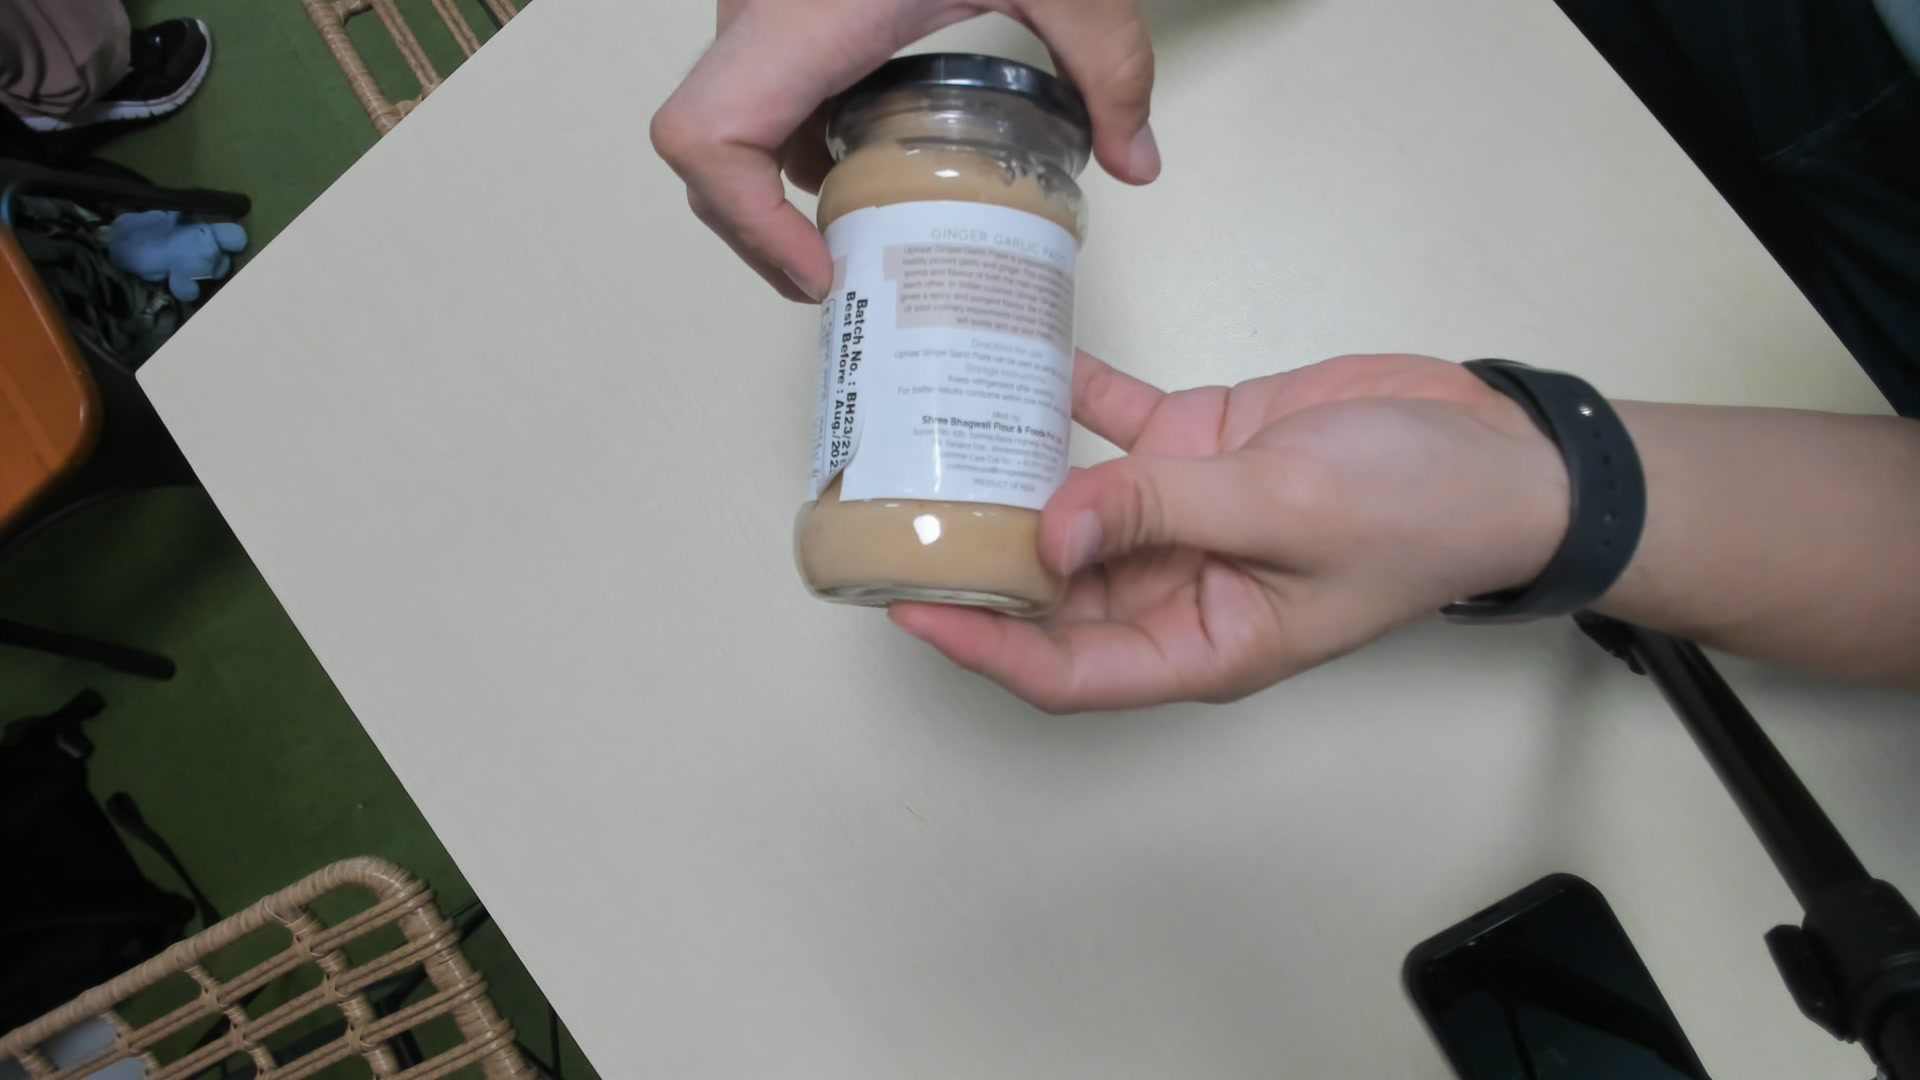OtherSauceDressing_200-299g_NonHalal_NonHealthy: (796, 57, 1097, 618)
